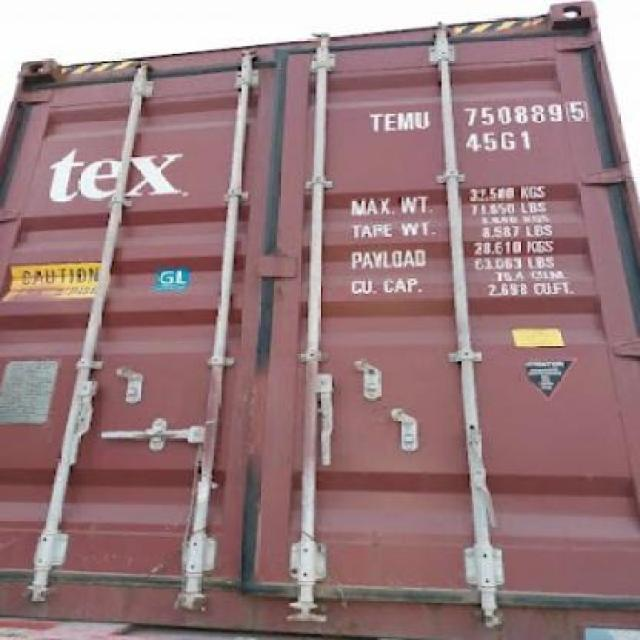ISO: (465, 130, 535, 152)
container_number: (362, 97, 581, 127)
